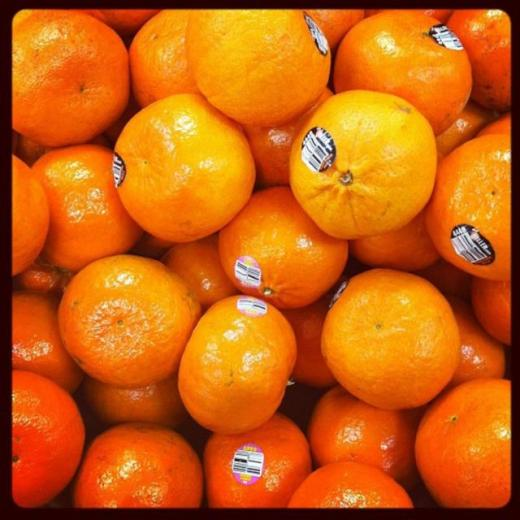Grape: (11, 8, 511, 509)
